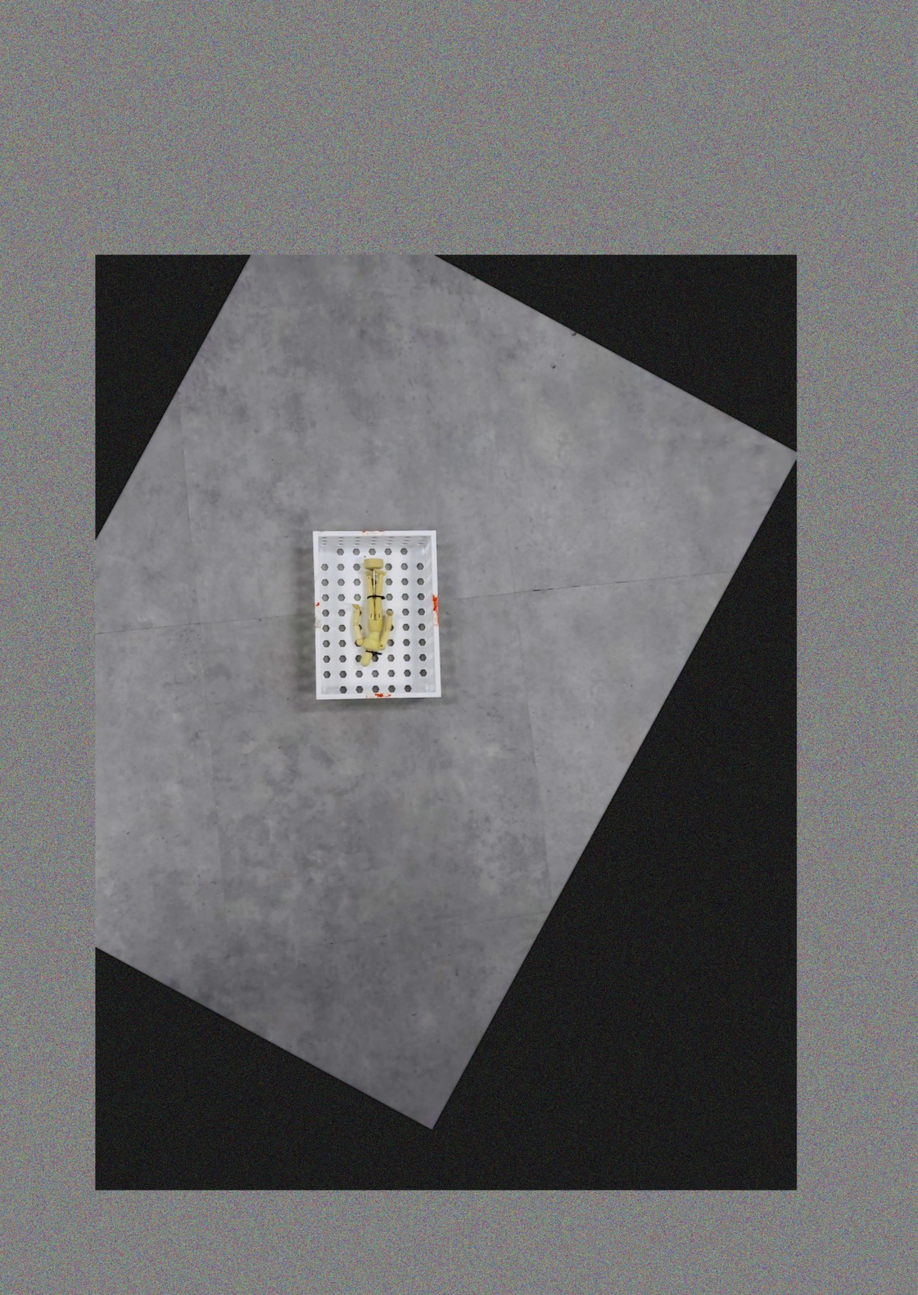basket: (308, 523, 446, 707)
mannequin: (349, 554, 393, 676)
